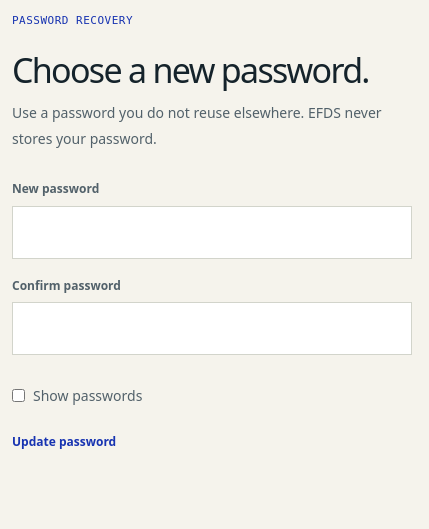
Scenario: password reset feedback › does not try to change the password if EFDS access verification fails
This screenshot has width=429, height=529.
Type "a-new-password-123" into the password field labelled "New password". click: (212, 232)
box: [12,206,412,259]
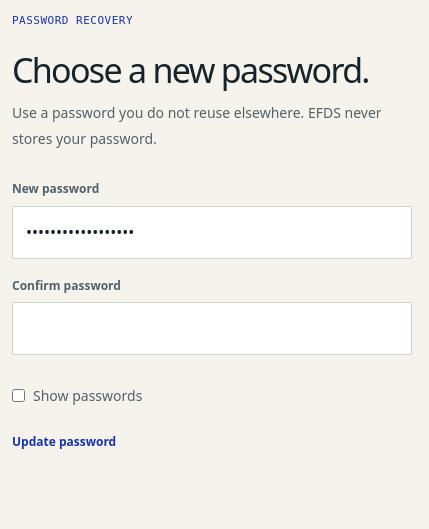
Type "a-new-password-123" into the password field labelled "Confirm password". click: (212, 329)
box: [12,302,412,355]
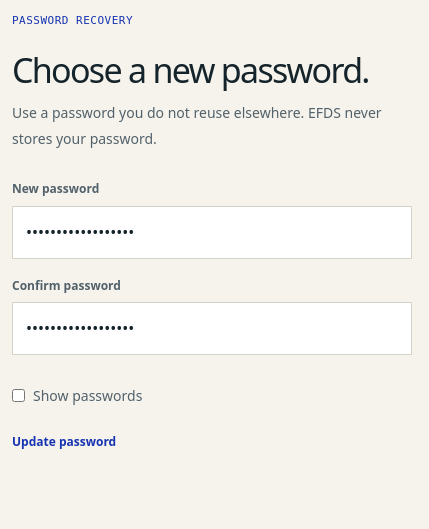
Click the button "Update password". click: (64, 442)
box: [12,420,116,464]
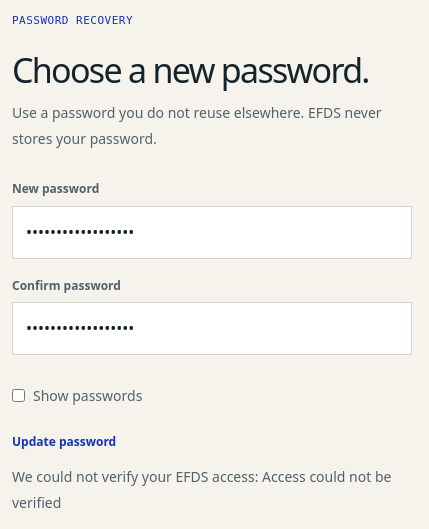
Now the message reads "We could not verify your EFDS access: Access could not be verified", box [12,467,391,512]
